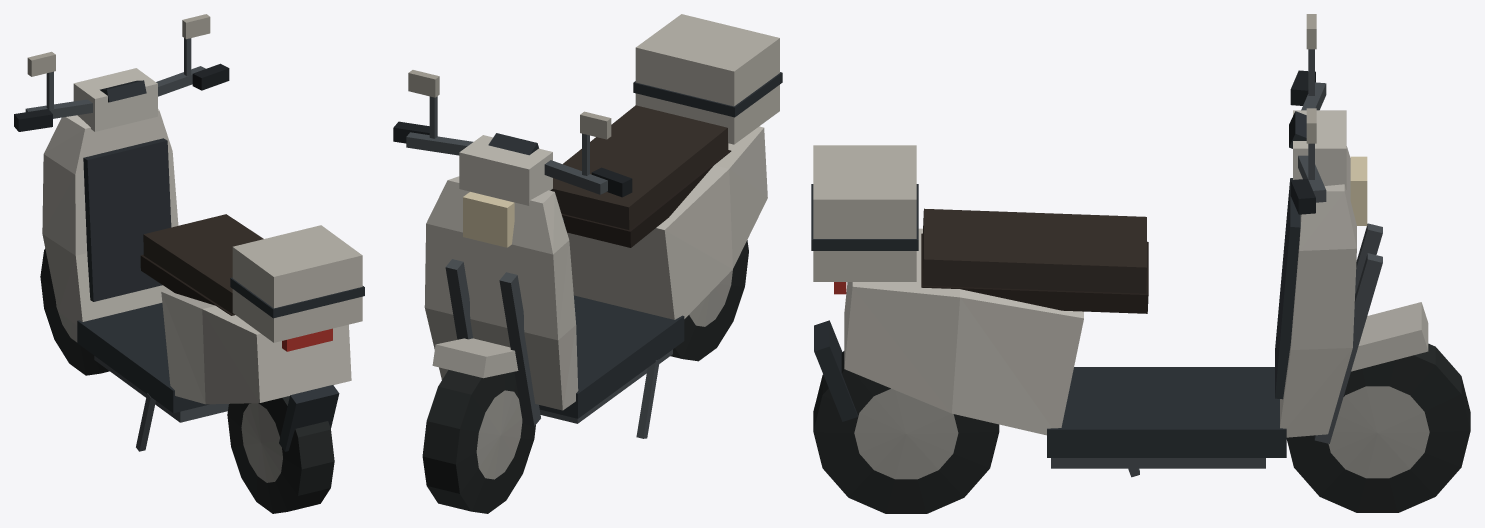
The model's file is ebike.glb.
3 renders of one model, left to right at view 1: azimuth 30°, elevation 25°; view 2: azimuth 150°, elevation 25°; view 3: azimuth 270°, elevation 25°, orthographic. The views are drawn at different scales.
Visible parts, largest first — view 1: Ebike; view 2: Ebike; view 3: Ebike.
Boxes of the visible parts, box(x1,y1,x2,y2) form: Ebike: box(14, 14, 364, 513); Ebike: box(393, 14, 782, 513); Ebike: box(811, 14, 1470, 513).
Bounding box in the file's own units: 0.7357 × 1.17 × 1.6.
